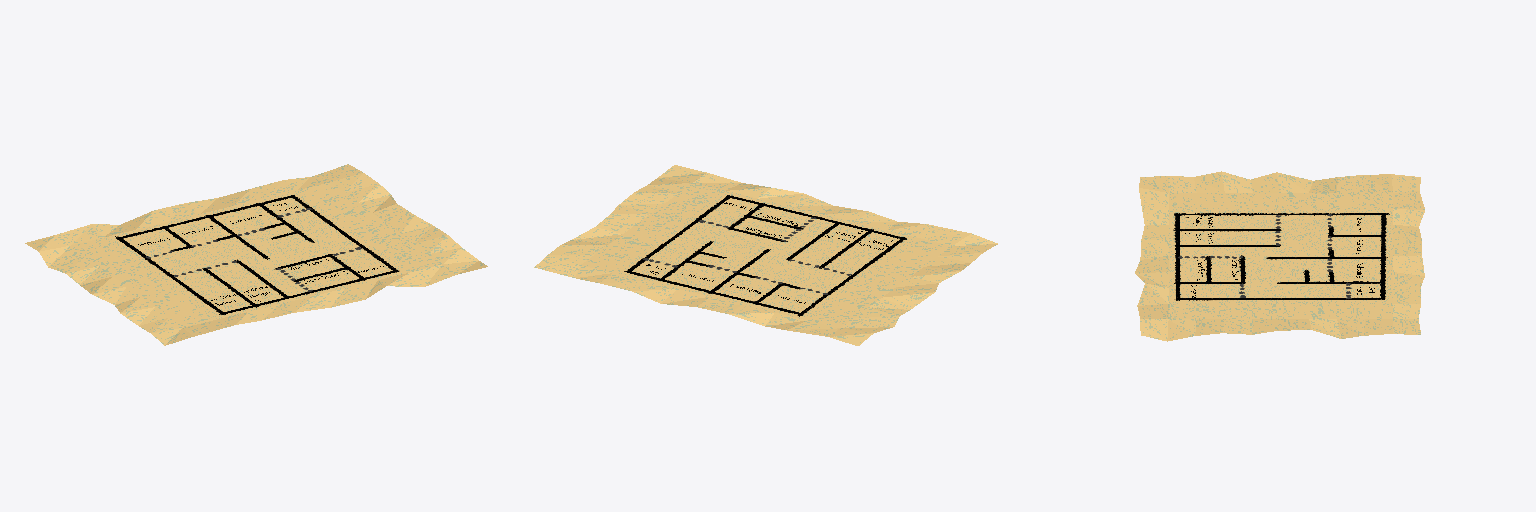
3 renders of one model, left to right at view 1: azimuth 30°, elevation 25°; view 2: azimuth 150°, elevation 25°; view 3: azimuth 270°, elevation 25°, orthographic.
Visible parts, largest first — view 1: Plane; view 2: Plane; view 3: Plane.
Part boxes in pixels (x1,y1,x2,y2): Plane: (25, 164, 487, 345); Plane: (534, 165, 997, 345); Plane: (1135, 171, 1424, 341).
Bounding box in the file's own units: 2.75 × 0.0653 × 2.07.
Materials: 1 (1 with a texture image).